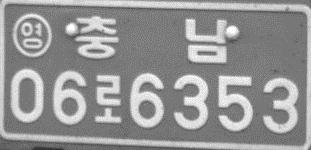0: (9, 67, 44, 123)
3: (172, 74, 210, 132), (261, 76, 299, 134)
5: (217, 74, 253, 132)
6: (128, 72, 165, 129), (50, 68, 86, 126)
로: (93, 74, 122, 125)
영: (11, 12, 52, 58)
충남_D: (72, 14, 228, 65)
